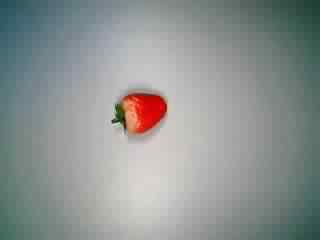strawberry: (102, 79, 167, 141)
